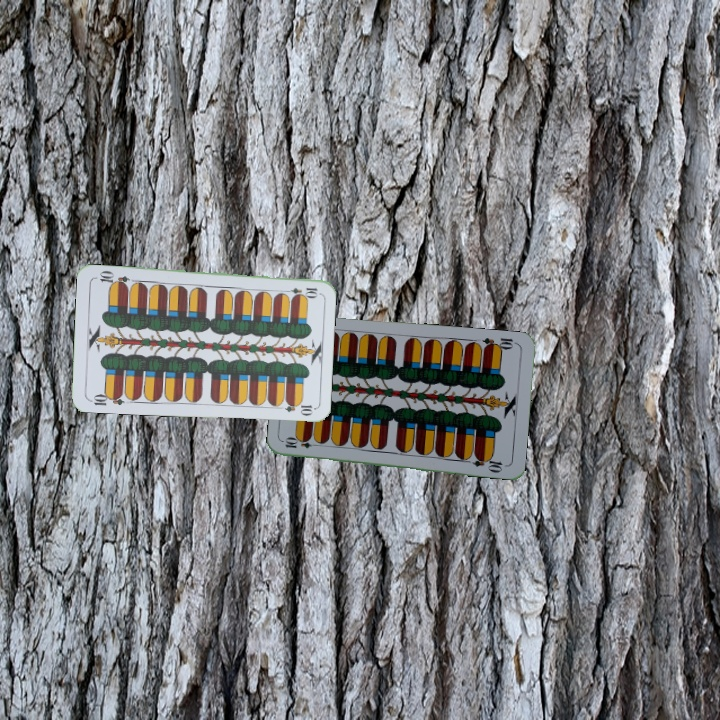E10: (479, 334, 520, 353), (86, 389, 126, 408), (281, 436, 322, 451), (280, 283, 320, 298)
